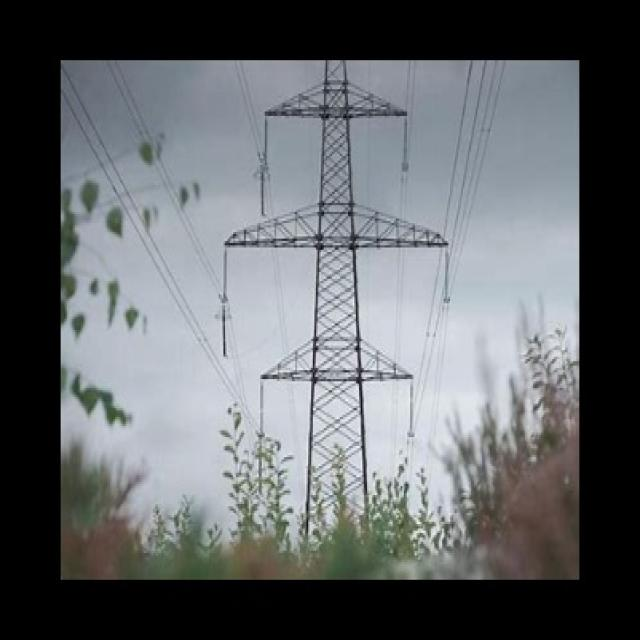utility poles: (200, 337, 473, 580)
